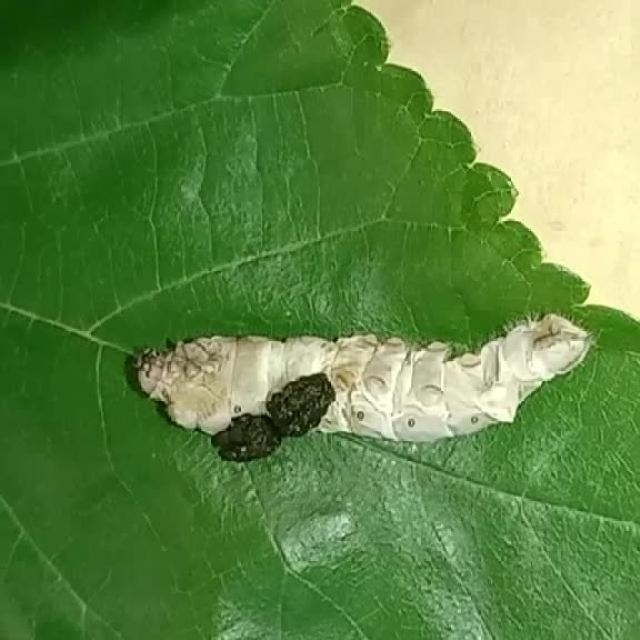Grasserie: (81, 254, 635, 486)
